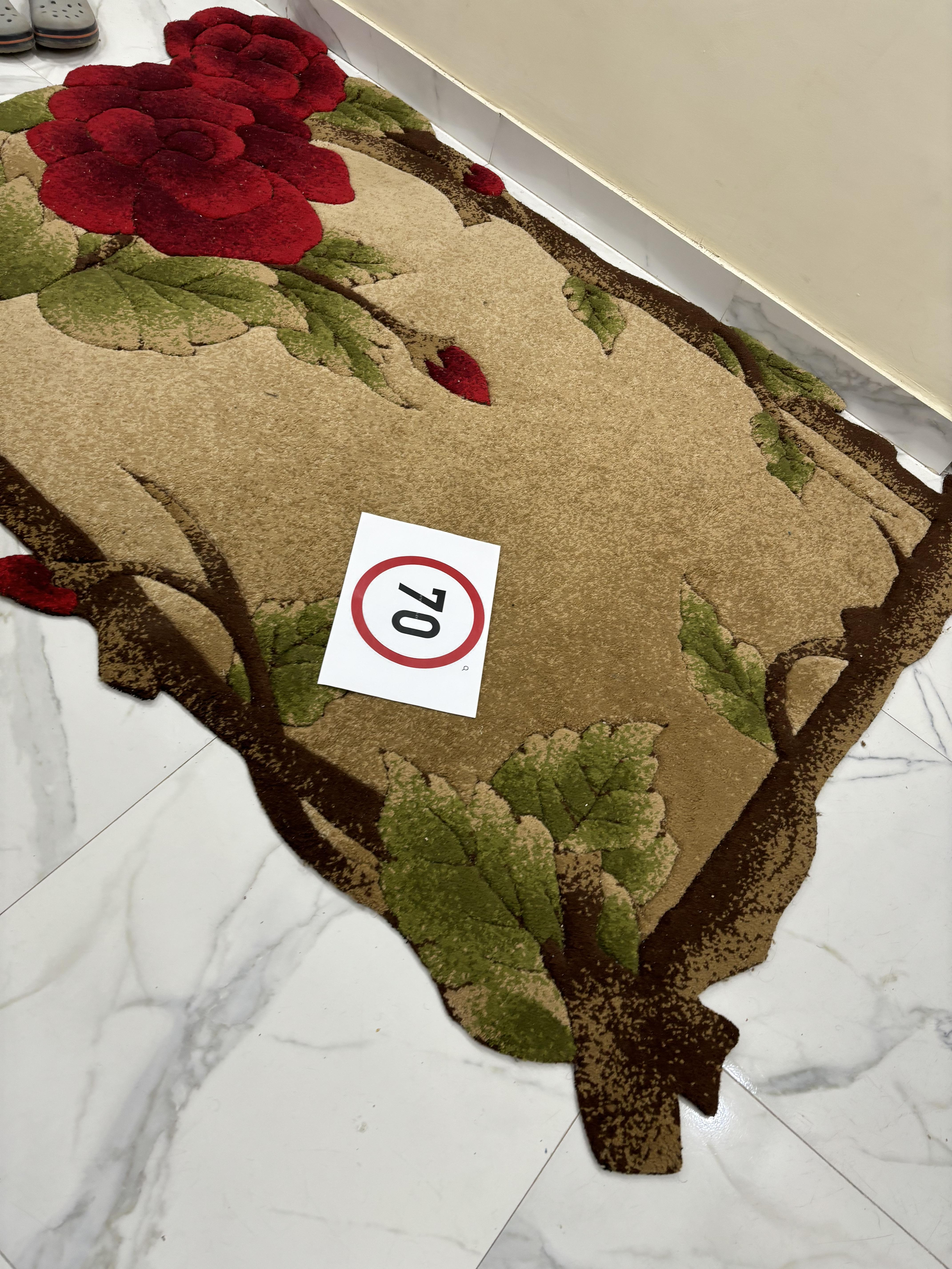70-Speed: (349, 549, 486, 671)
